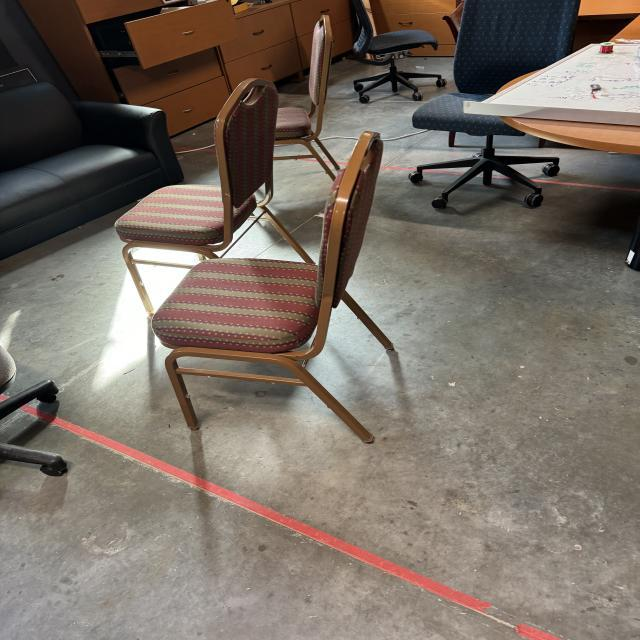chair: (133, 132, 404, 442), (112, 70, 304, 298)
